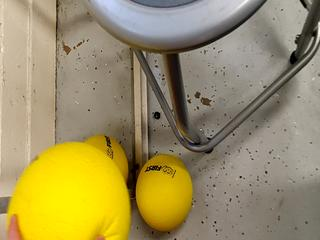power_cell: (5, 139, 132, 240), (134, 150, 205, 233), (78, 129, 132, 185)
